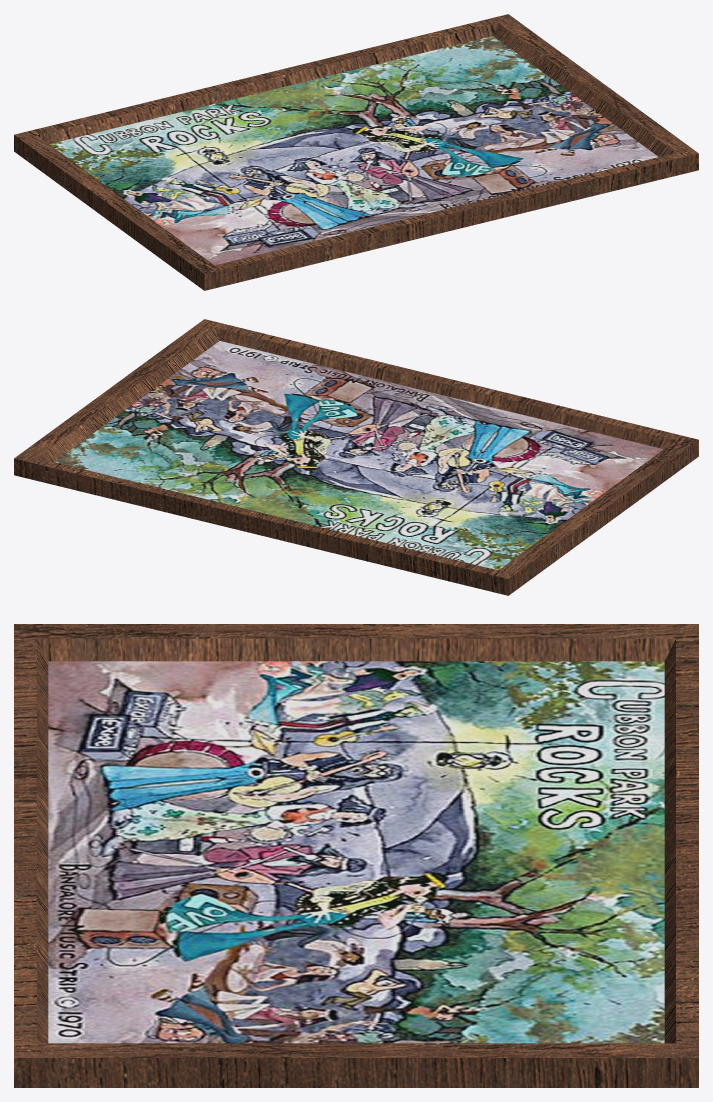
3 views of the same model, one above another, from view 1: azimuth 30°, elevation 25°; view 2: azimuth 150°, elevation 25°; view 3: azimuth 270°, elevation 25° (orthographic). The views are drawn at different scales.
Parts seen in each view (by area): view 1: Plane, frame1(1); view 2: Plane, frame1(1); view 3: Plane, frame1(1).
Part boxes in pixels (x1,y1,x2,y2): Plane: (49,36,658,265); frame1(1): (14,14,698,290); Plane: (54,341,663,570); frame1(1): (14,319,698,595); Plane: (48,661,664,1043); frame1(1): (14,624,698,1087).
Size of the model in its own units: 13.17 by 0.4268 by 8.79.
Materials: 2 (2 with a texture image).
